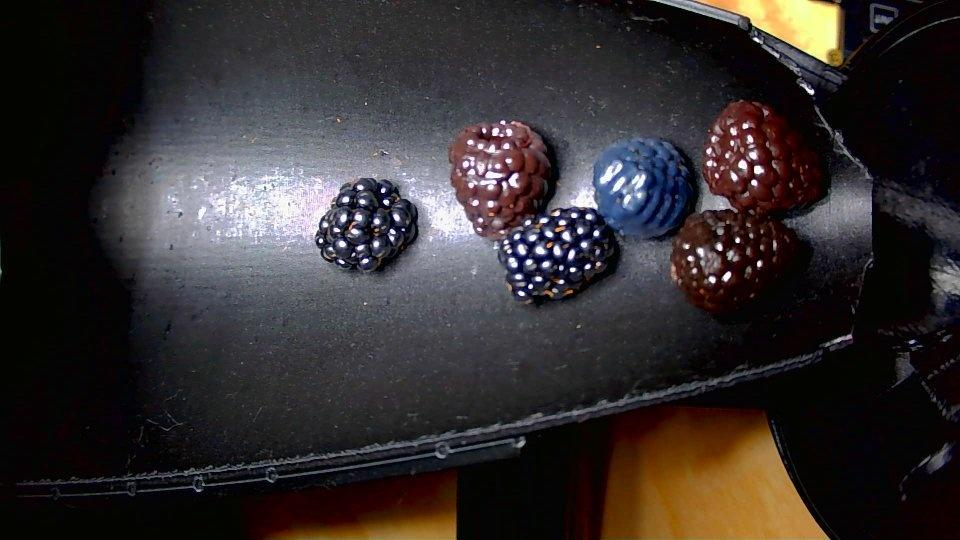berry: (701, 100, 823, 214), (671, 210, 795, 312), (450, 120, 551, 239), (498, 207, 616, 302), (592, 138, 695, 238), (314, 178, 417, 271)
